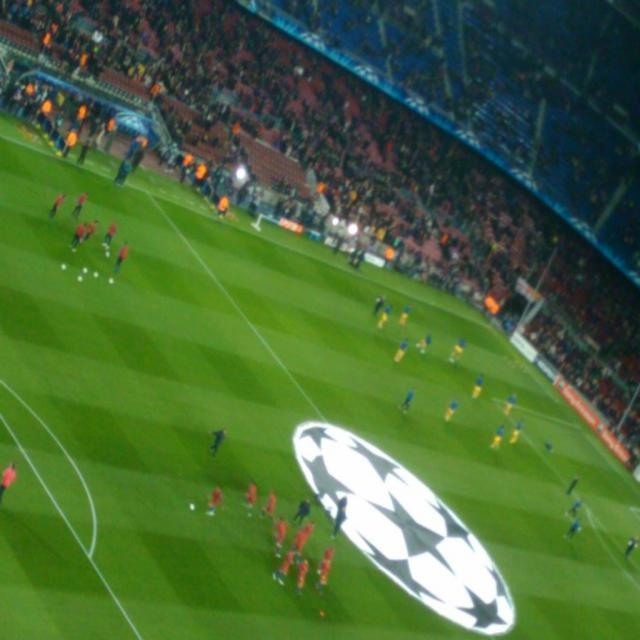ball: (191, 503, 197, 512)
